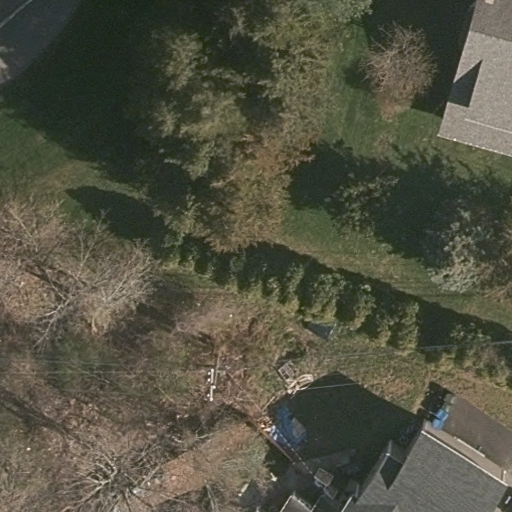DT: (198, 349, 230, 407)
